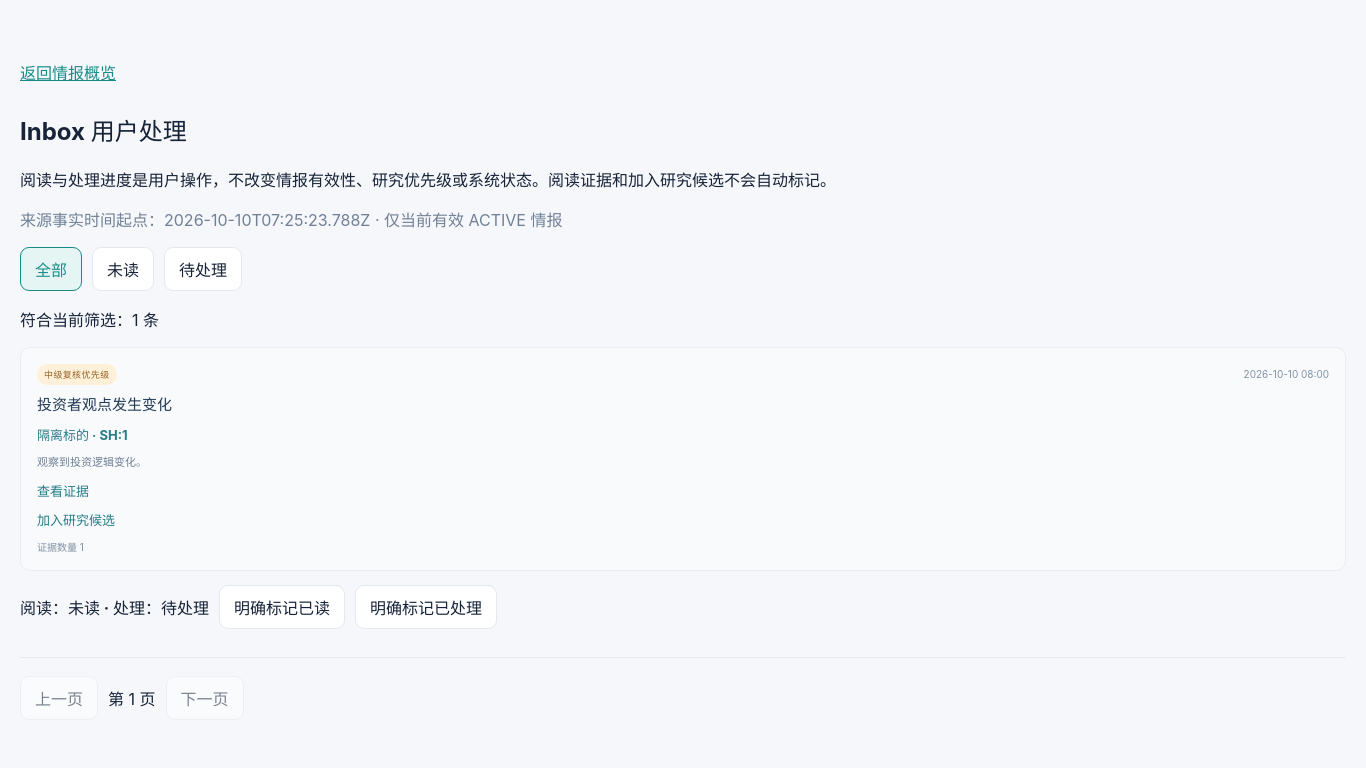
Scenario: only explicit clicks write, keeps source links and reports successful progress
This screenshot has width=1366, height=768.
Expected: the text "阅读：未读 · 处理：待处理" is shown, 20,595 -> 209,619
What coordinates should you click on to do the following:
click the button "明确标记已读"
I would click on:
 (282, 607)
Its box is 219,585 -> 345,629.
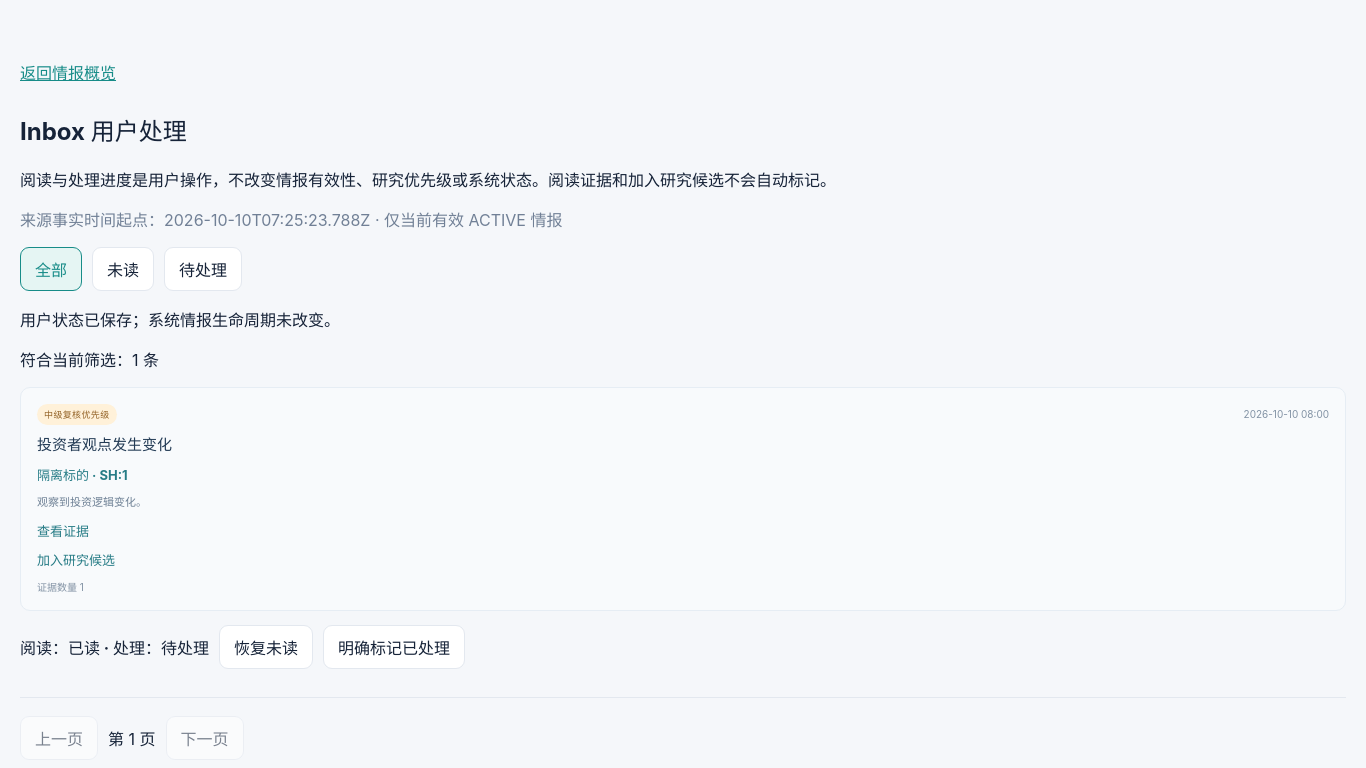
Now the text "阅读：已读 · 处理：待处理" is shown, box 20,635 -> 209,659
What coordinates should you click on to do the following:
click the button "未读"
I would click on:
 (123, 269)
Its box is 92,247 -> 154,291.
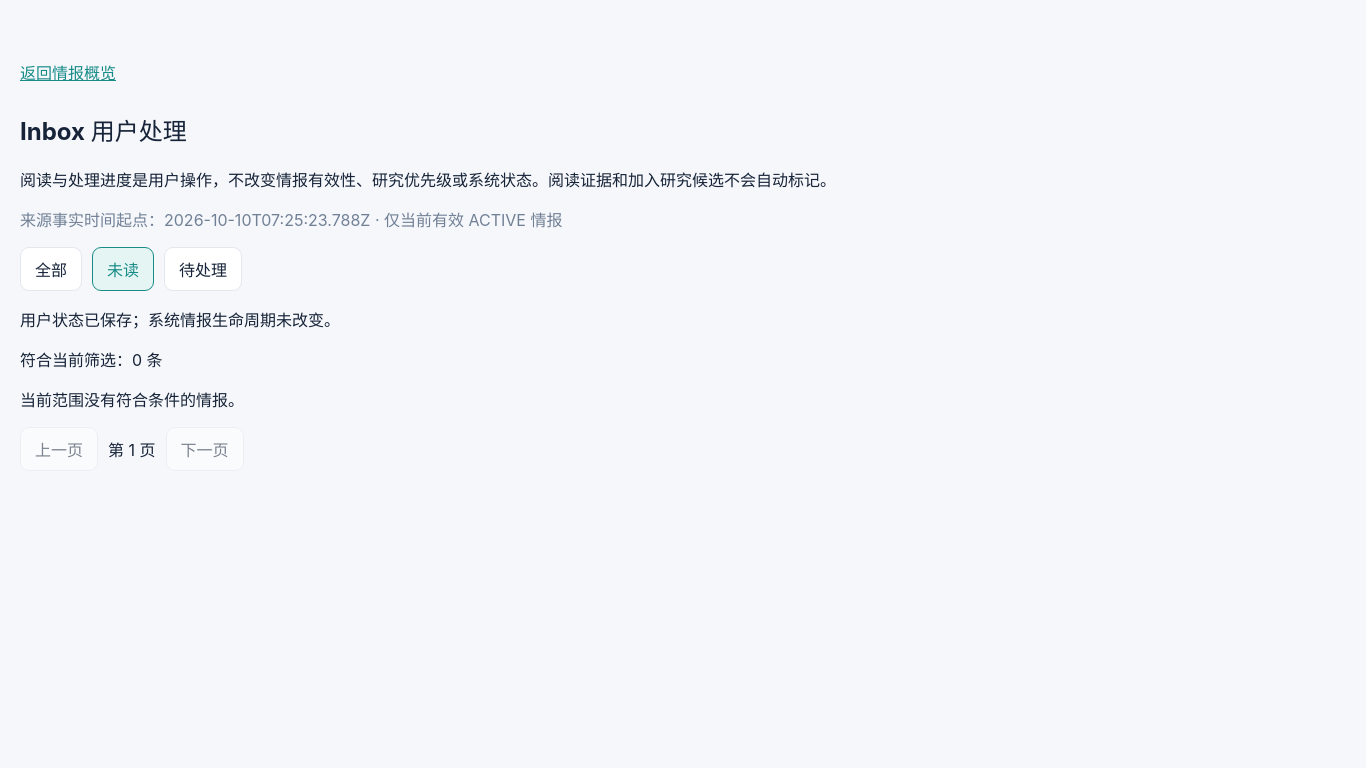
Now the text "符合当前筛选：0 条" is shown, box 20,350 -> 163,370
